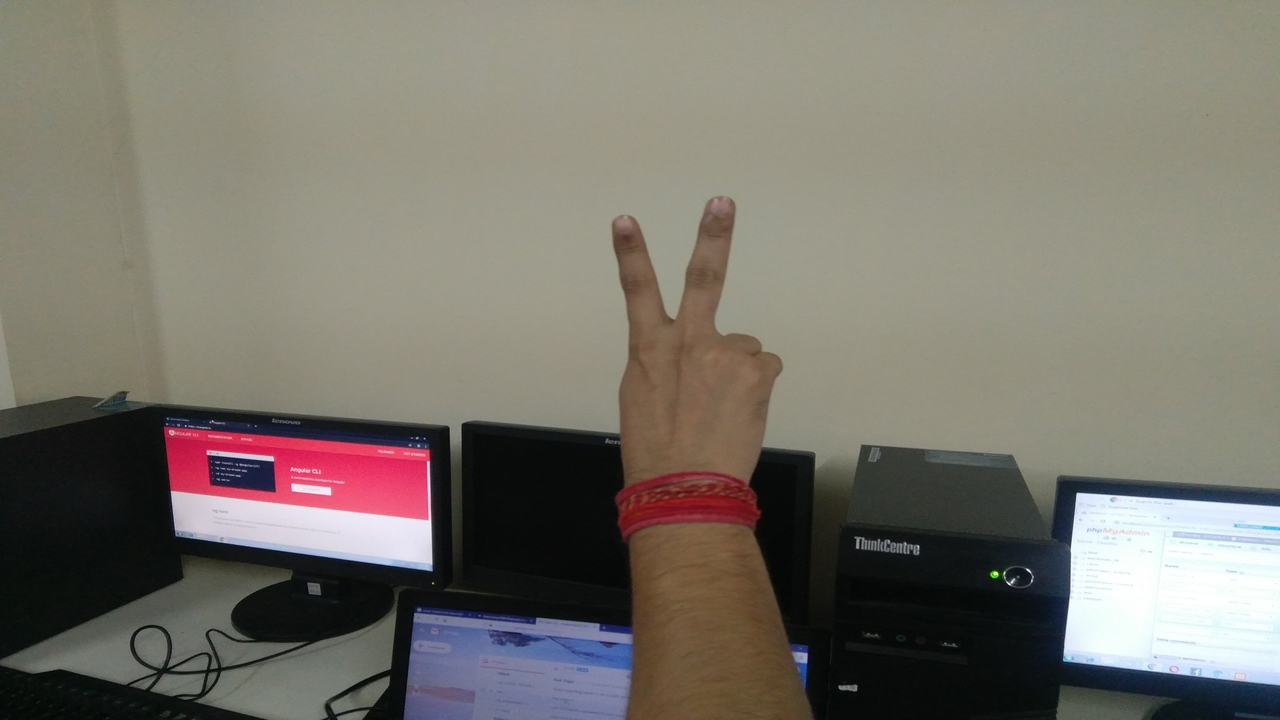fingertip: (604, 204, 654, 250), (692, 186, 740, 228)
